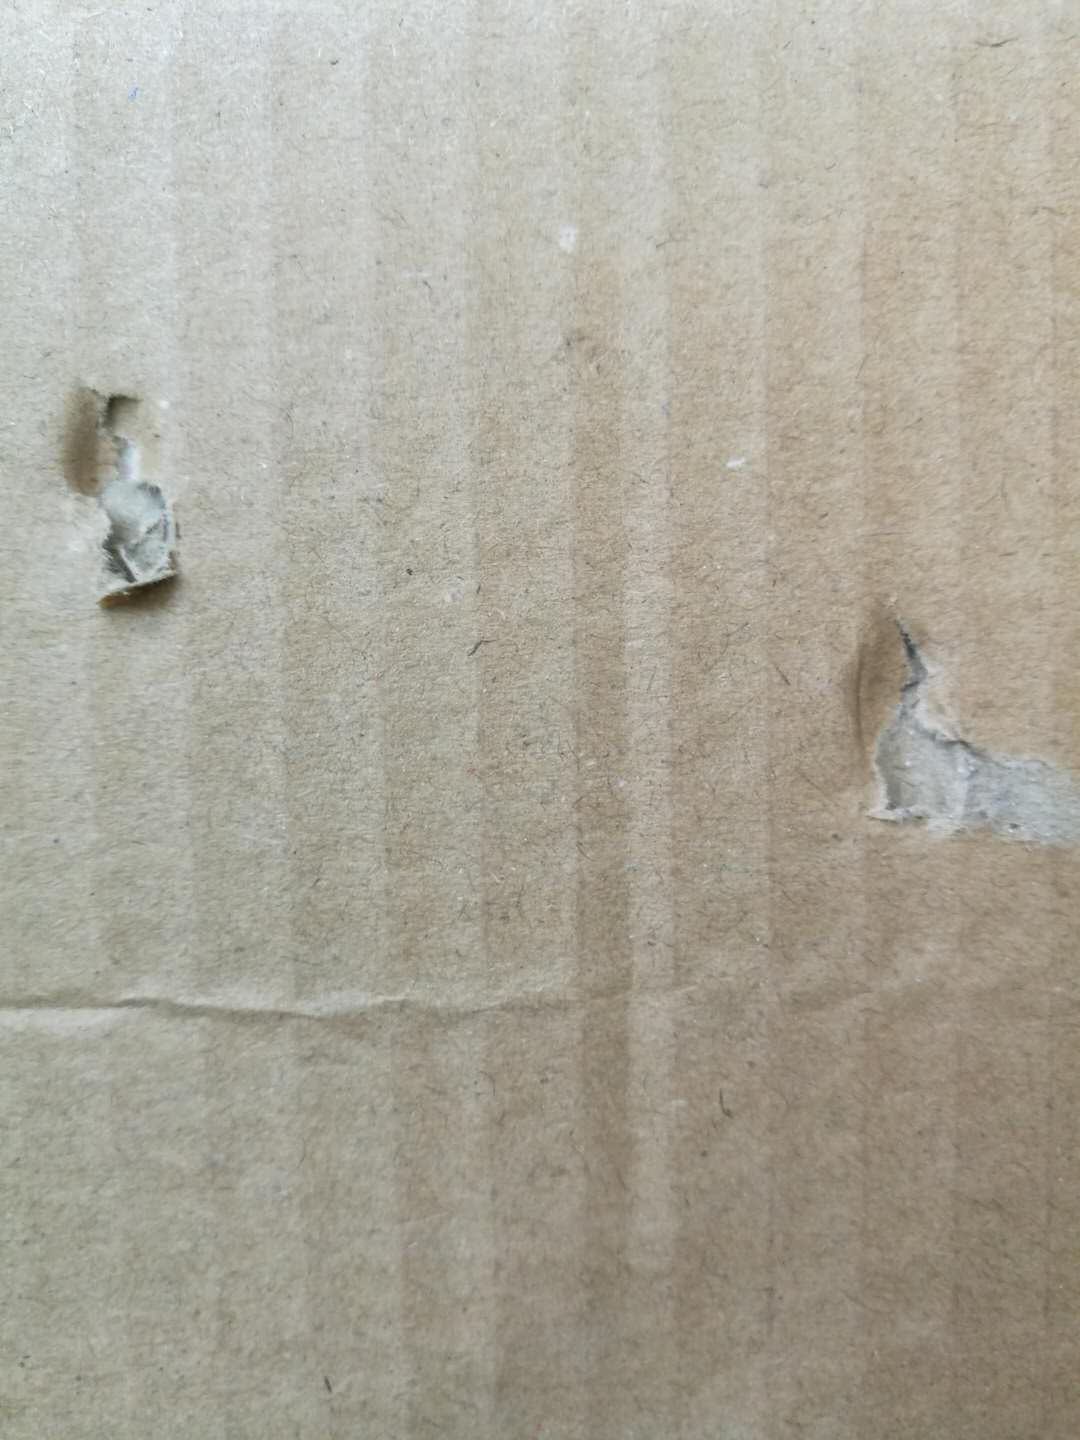defect: (815, 578, 1080, 908), (2, 941, 737, 1059), (37, 345, 222, 647)
